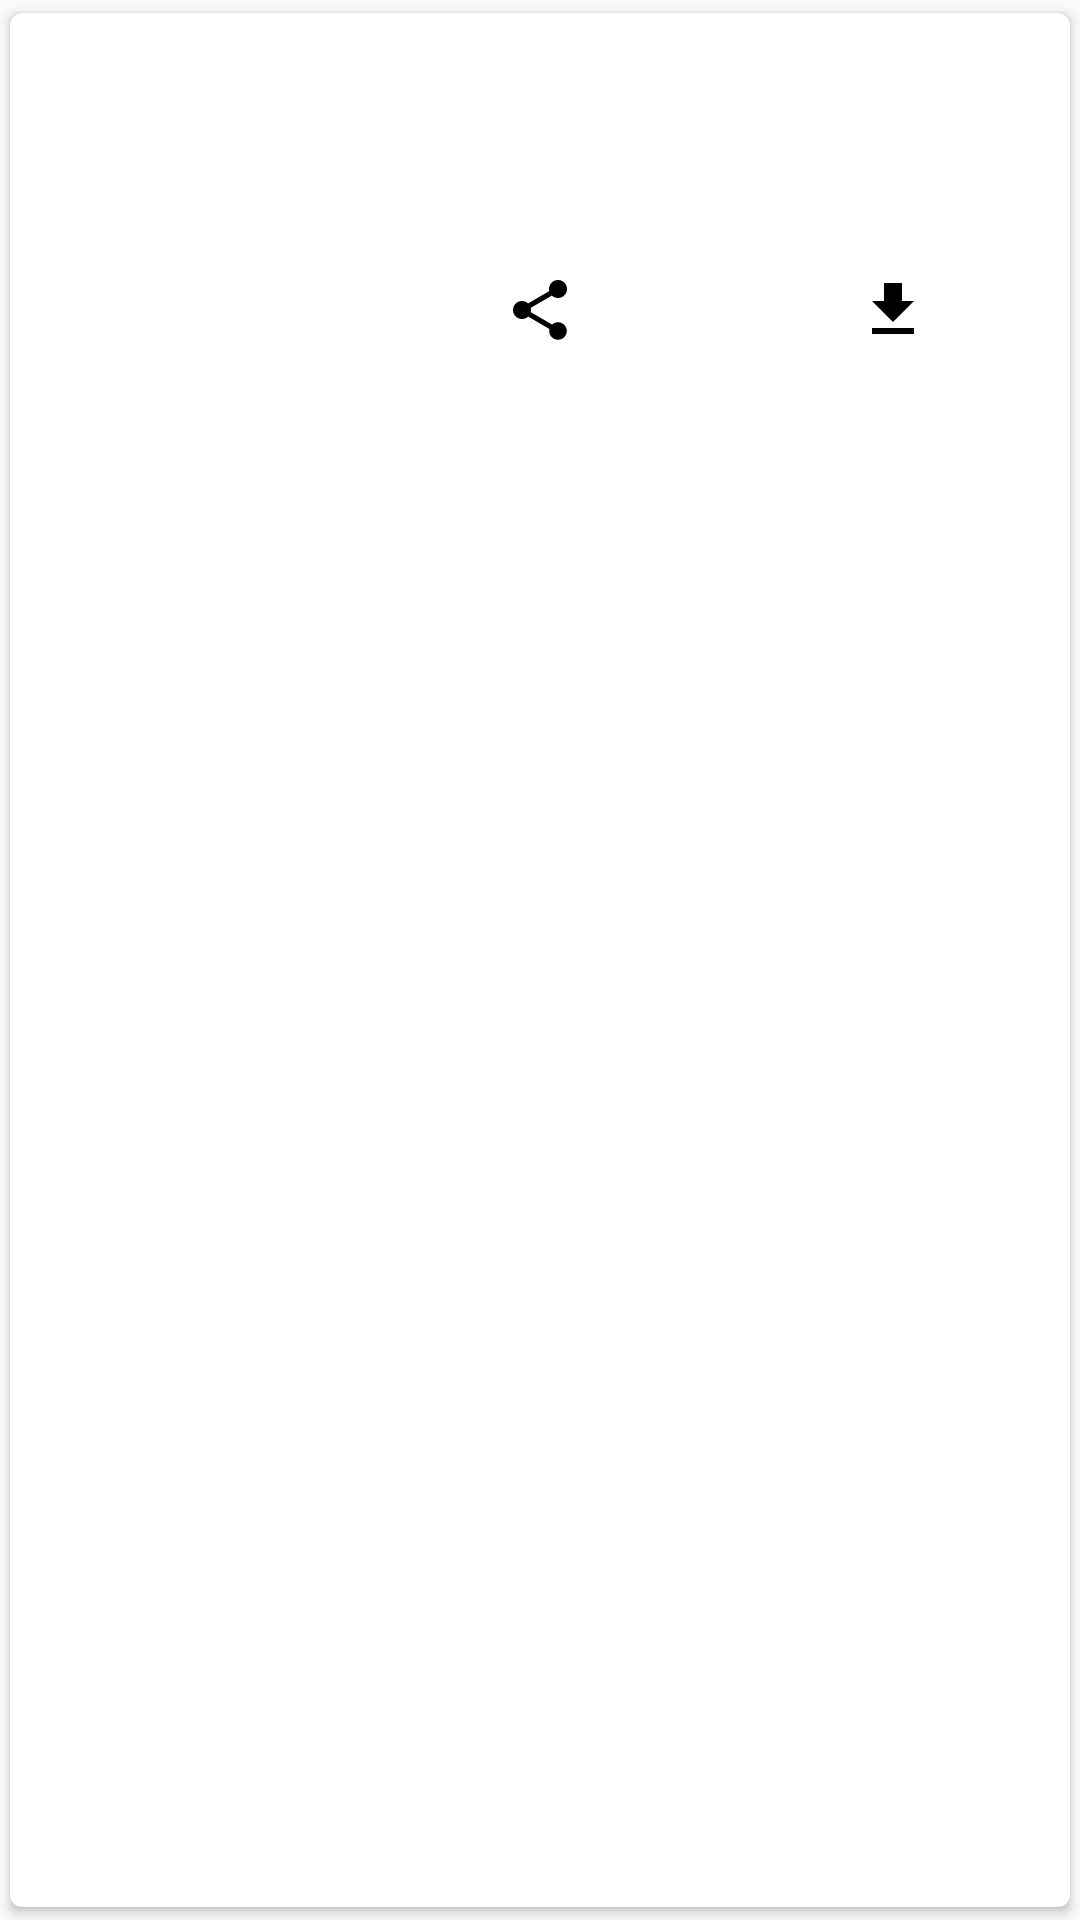

Icons on this 1080×1920 Android screen, each with its box as {"left": x1, "top": y1, "right": x2, "bottom": y2}:
download: {"left": 872, "top": 283, "right": 914, "bottom": 334}
share: {"left": 513, "top": 280, "right": 567, "bottom": 340}
